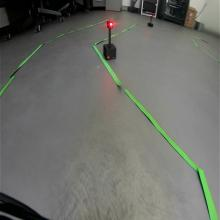red: (106, 19, 115, 29)
